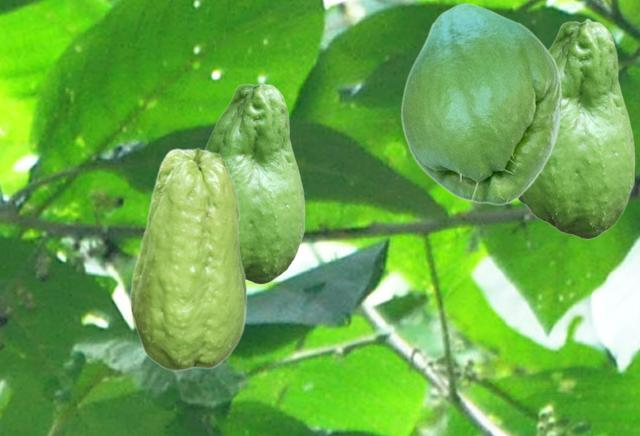sayote: (400, 3, 561, 205), (129, 147, 247, 371), (518, 18, 634, 238), (205, 81, 304, 283)
